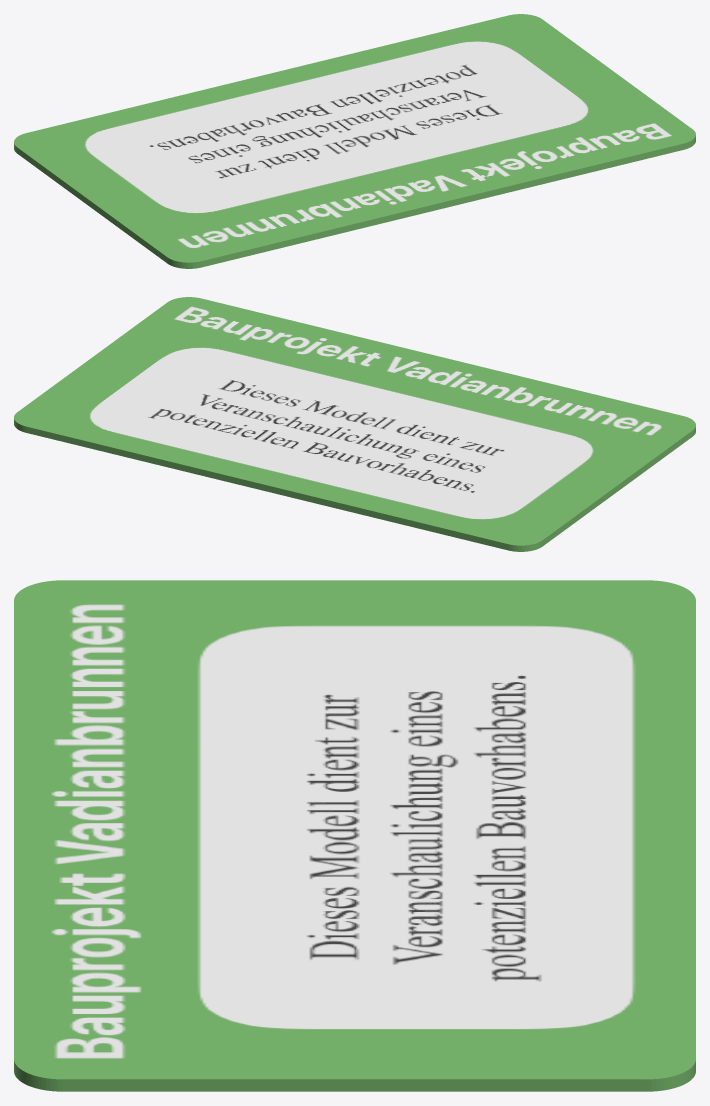
The model's file is BrunnenVadian.fbx.
The picture shows the model from 3 angles, top to bottom: view 1: azimuth 30°, elevation 25°; view 2: azimuth 150°, elevation 25°; view 3: azimuth 270°, elevation 25°; orthographic projection. The views are drawn at different scales.
Parts seen in each view (by area): view 1: Cube; view 2: Cube; view 3: Cube.
Part boxes in pixels (x1=…): Cube: x1=14, y1=14, x2=695, y2=268; Cube: x1=14, y1=297, x2=695, y2=551; Cube: x1=14, y1=580, x2=695, y2=1091.
Size of the model in its own units: 380 by 4.36 by 219.
Materials: 1 (1 with a texture image).
